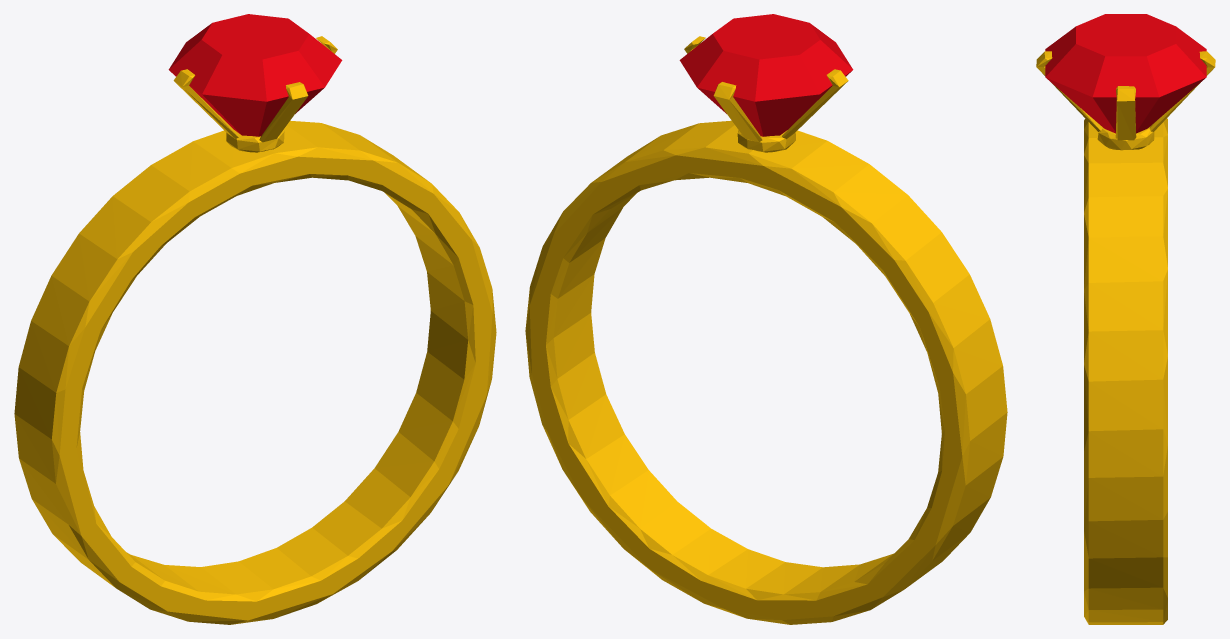
File: ring.fbx
The picture shows the model from 3 angles, left to right: view 1: azimuth 30°, elevation 25°; view 2: azimuth 150°, elevation 25°; view 3: azimuth 270°, elevation 25°; orthographic projection.
Visible parts, largest first — view 1: Cylinder; view 2: Cylinder; view 3: Cylinder.
Boxes of the visible parts, x1,y1,x2,y2 form: Cylinder: [14, 14, 496, 624]; Cylinder: [525, 14, 1007, 624]; Cylinder: [1036, 14, 1215, 624].
Bounding box in the file's own units: 0.00635 × 0.0221 × 0.0181.
